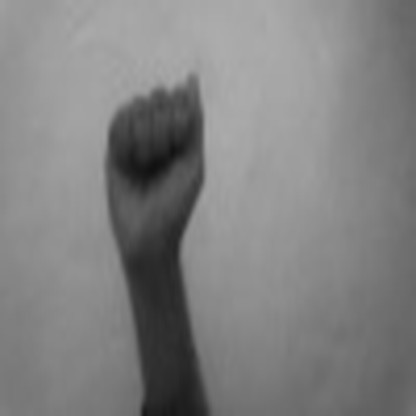a: (100, 69, 209, 252)
